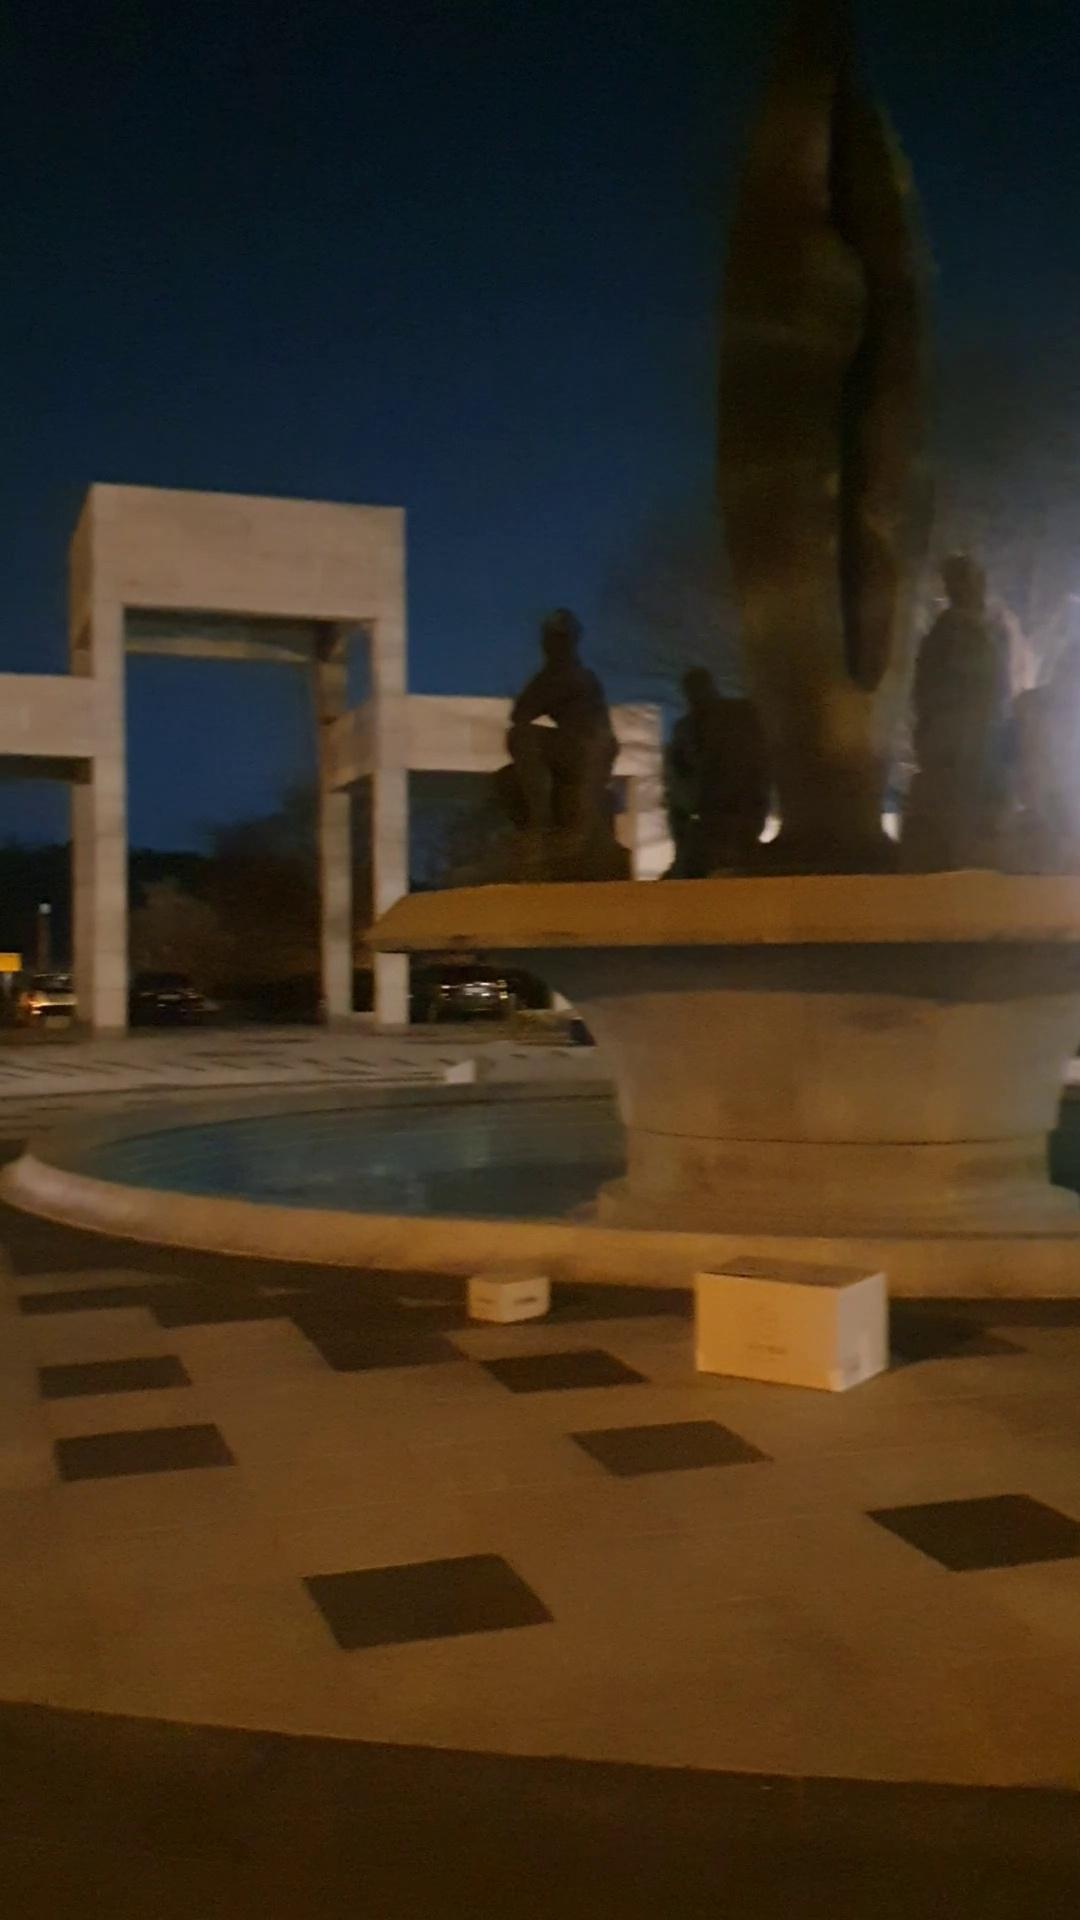Box: (669, 1236, 891, 1396), (451, 1247, 564, 1328)
